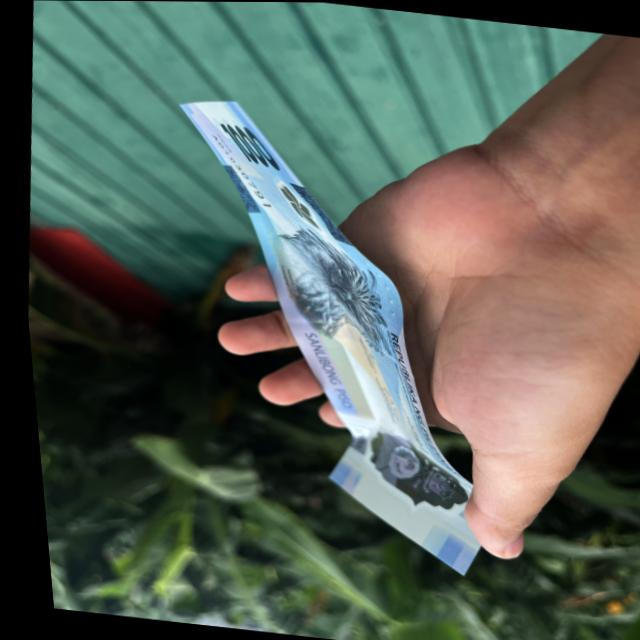clear_window: (344, 423, 456, 518)
eagle: (268, 246, 376, 352)
sampaguita: (264, 176, 325, 232)
